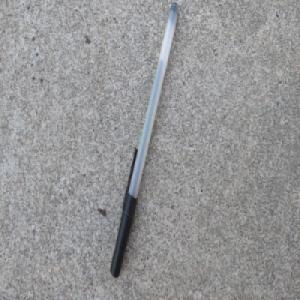Pen: (110, 1, 180, 279)
